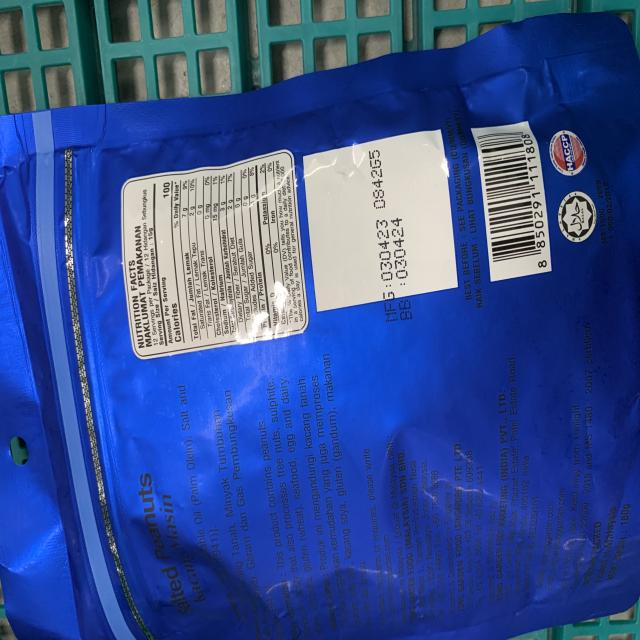object_name: (1, 82, 640, 622)
